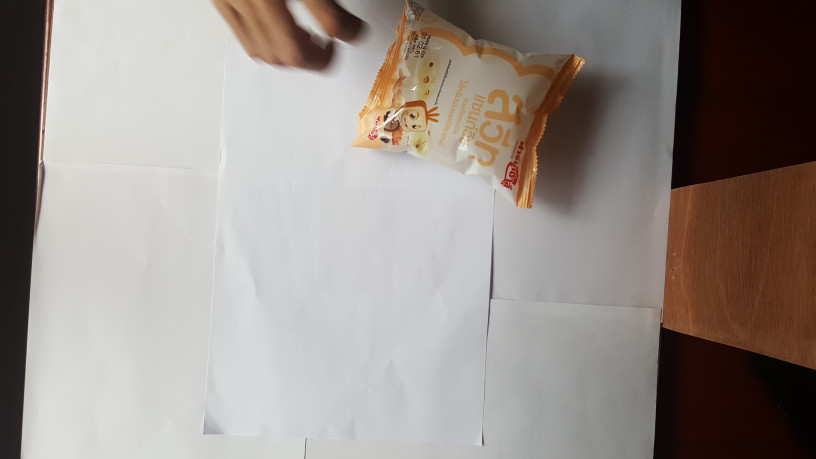farmhouse-sweetsandwich-almond: (339, 1, 585, 217)
